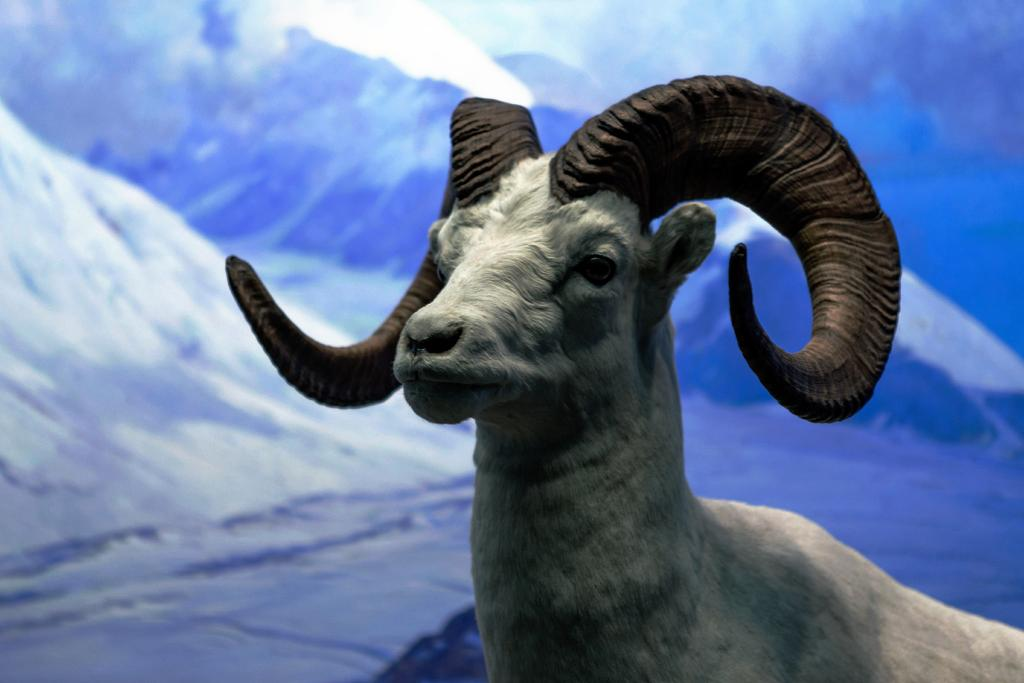Sheep: (220, 70, 1022, 680)
